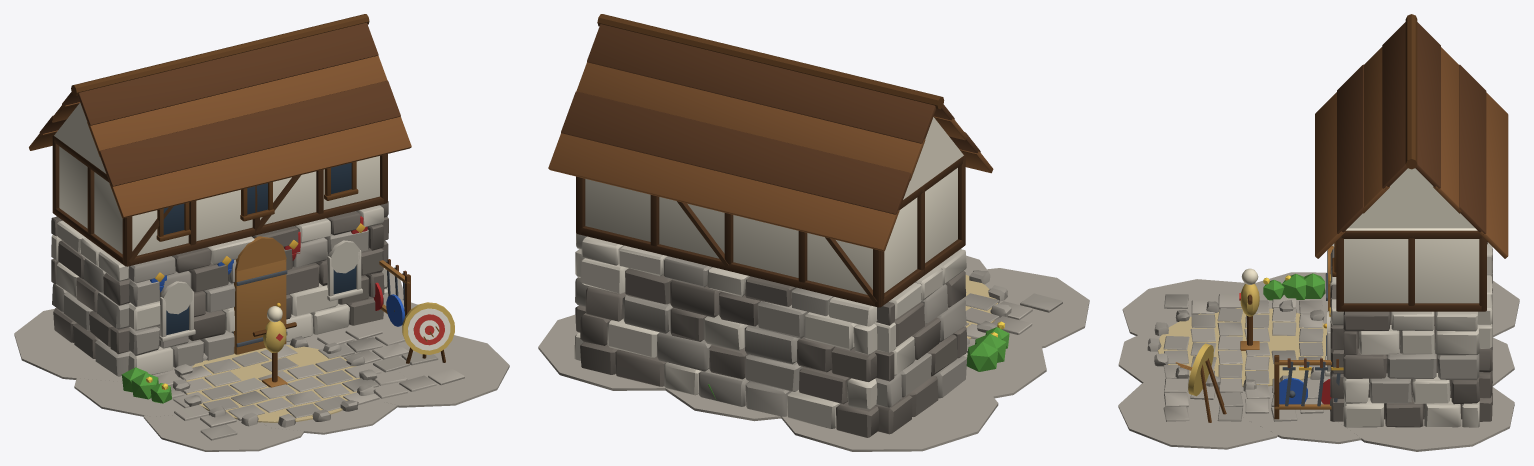
The model's file is koszary_poz13.glb.
3 renders of one model, left to right at view 1: azimuth 30°, elevation 25°; view 2: azimuth 150°, elevation 25°; view 3: azimuth 270°, elevation 25°, orthographic. The views are drawn at different scales.
Visible parts, largest first — view 1: koszary_poz13; view 2: koszary_poz13; view 3: koszary_poz13.
Boxes of the visible parts, left/top/right/bottom form: koszary_poz13: left=14, top=14, right=509, bottom=451; koszary_poz13: left=538, top=14, right=1089, bottom=451; koszary_poz13: left=1118, top=14, right=1519, bottom=451.
Size of the model in its own units: 8.83 by 6.35 by 8.2.
